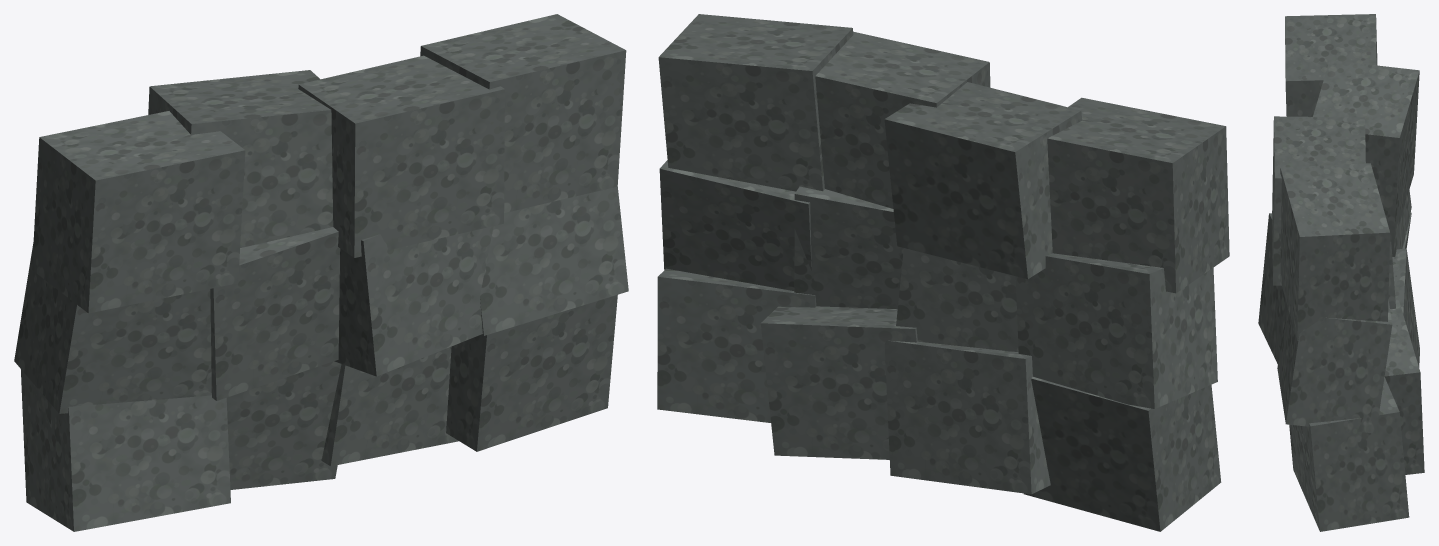
The model's file is en-014_cave_wall_module__arch.obj.
3 views of the same model, side by side, from view 1: azimuth 30°, elevation 25°; view 2: azimuth 150°, elevation 25°; view 3: azimuth 270°, elevation 25° (orthographic). The views are drawn at different scales.
Parts seen in each view (by area): view 1: en-014_cave_wall_module__arch; view 2: en-014_cave_wall_module__arch; view 3: en-014_cave_wall_module__arch.
Part boxes in pixels (<box>): en-014_cave_wall_module__arch: <box>14,14,628,531</box>; en-014_cave_wall_module__arch: <box>657,14,1229,531</box>; en-014_cave_wall_module__arch: <box>1258,14,1424,531</box>.
Size of the model in its own units: 2.39 by 1.6 by 0.7656.
Materials: 1 (1 with a texture image).
